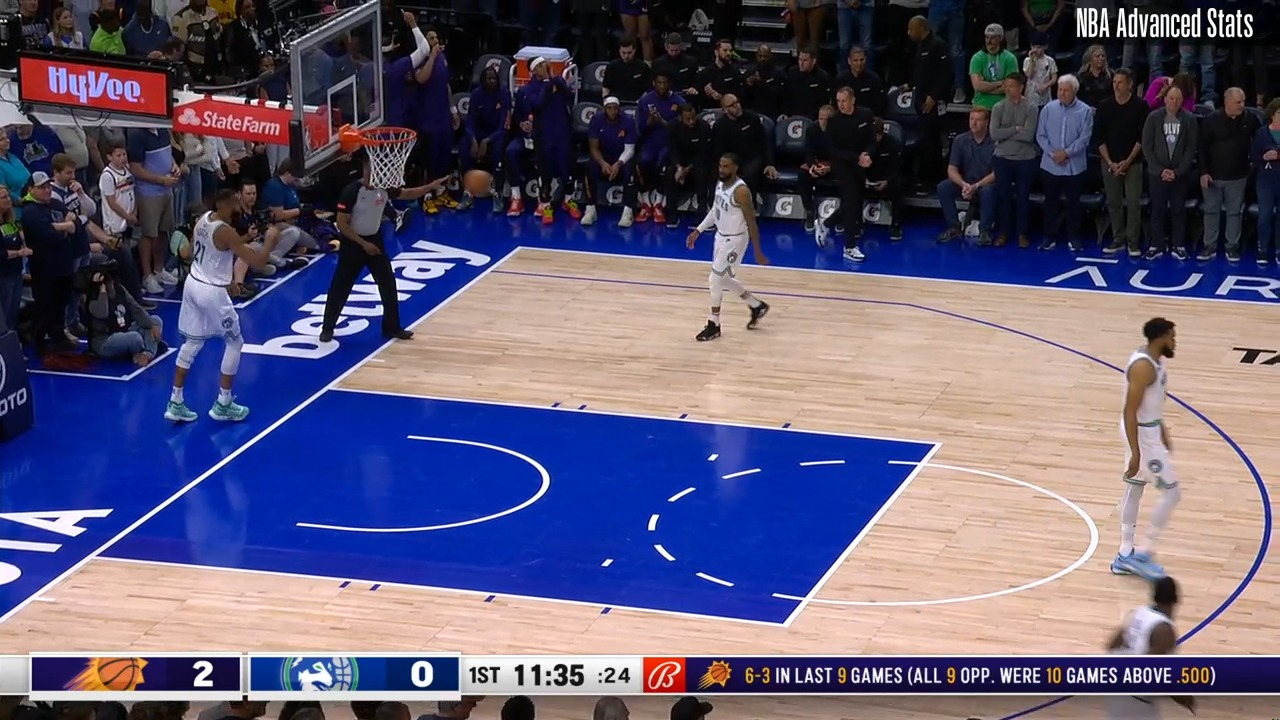basketball: (465, 167, 494, 198)
